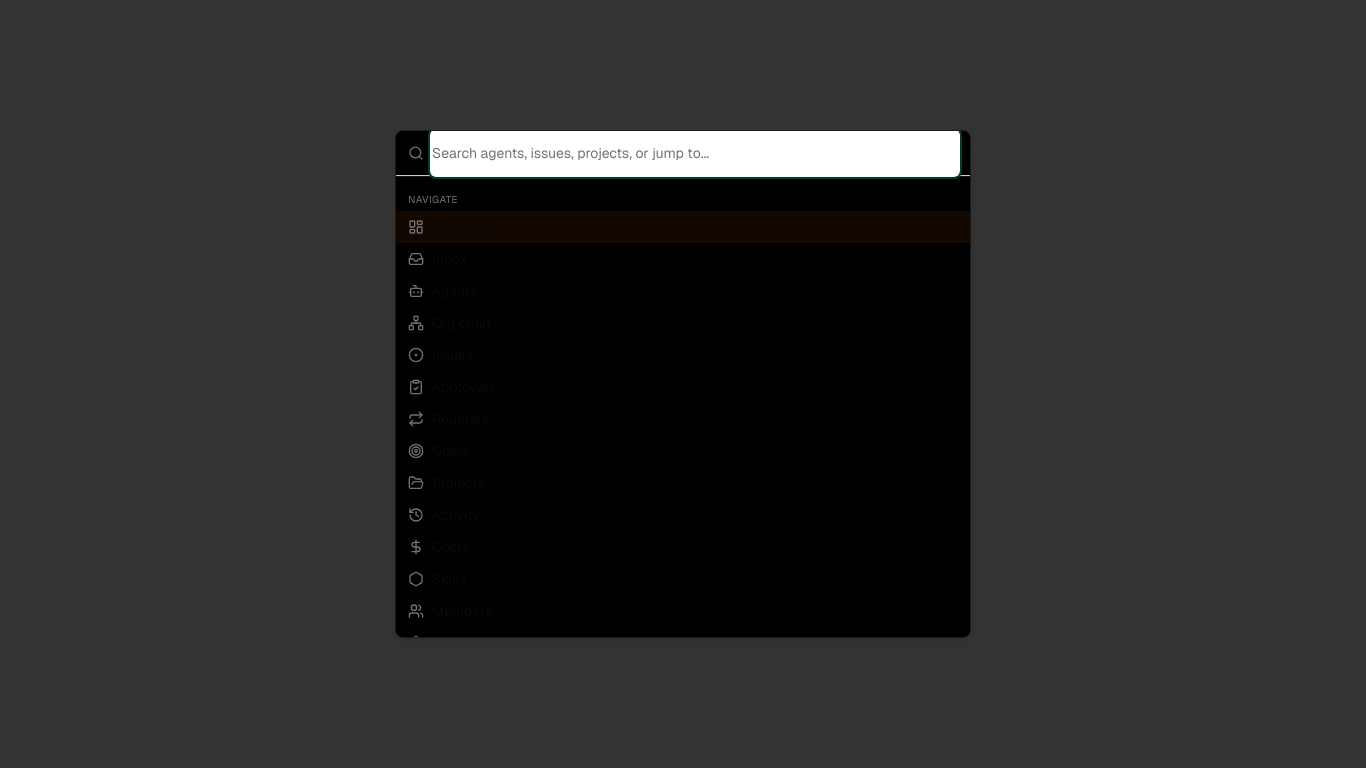
Scenario: shows 'No results.' when query yields nothing
Type "zzzzzz" into the field with placeholder "Search agents, issues, projects, or jump to...". click: (695, 153)
box: [432,131,958,175]
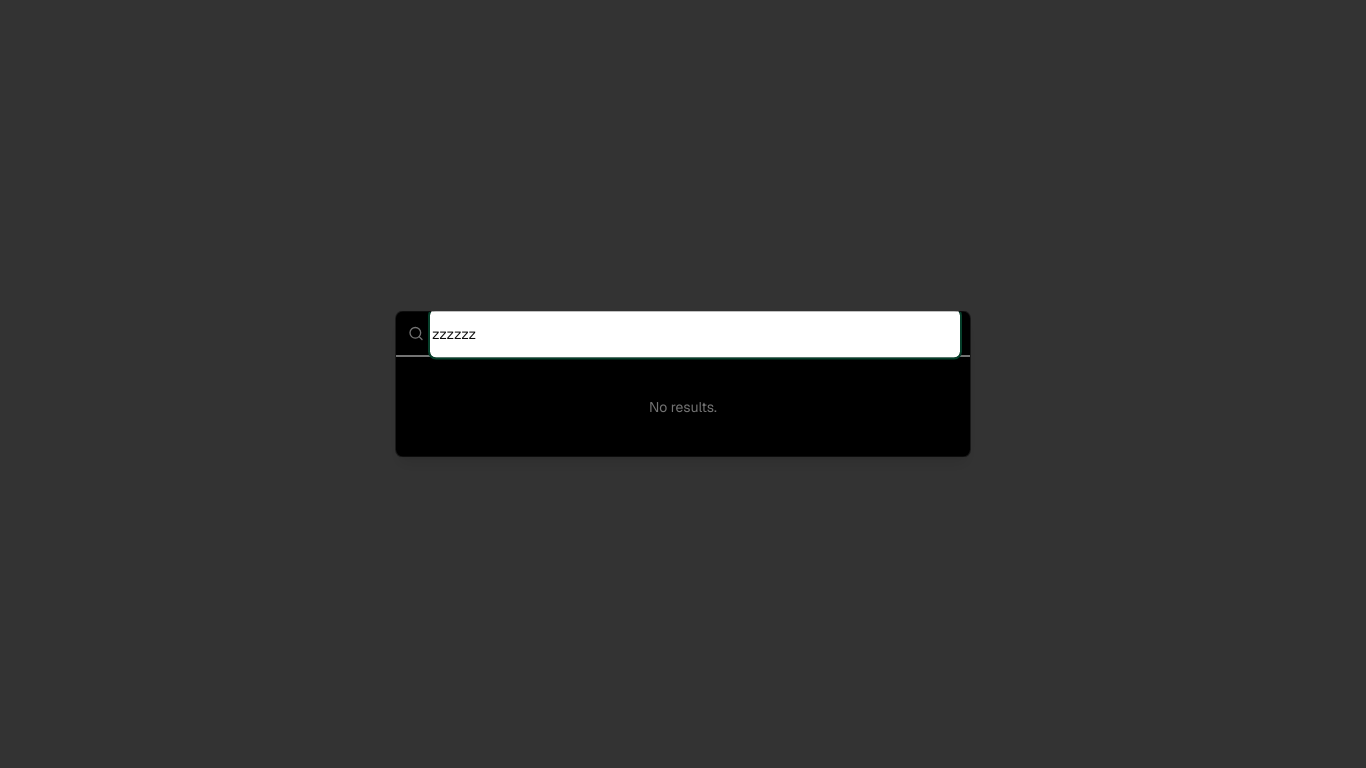
Expected: the text "No results." is shown, [649,398,717,416]
